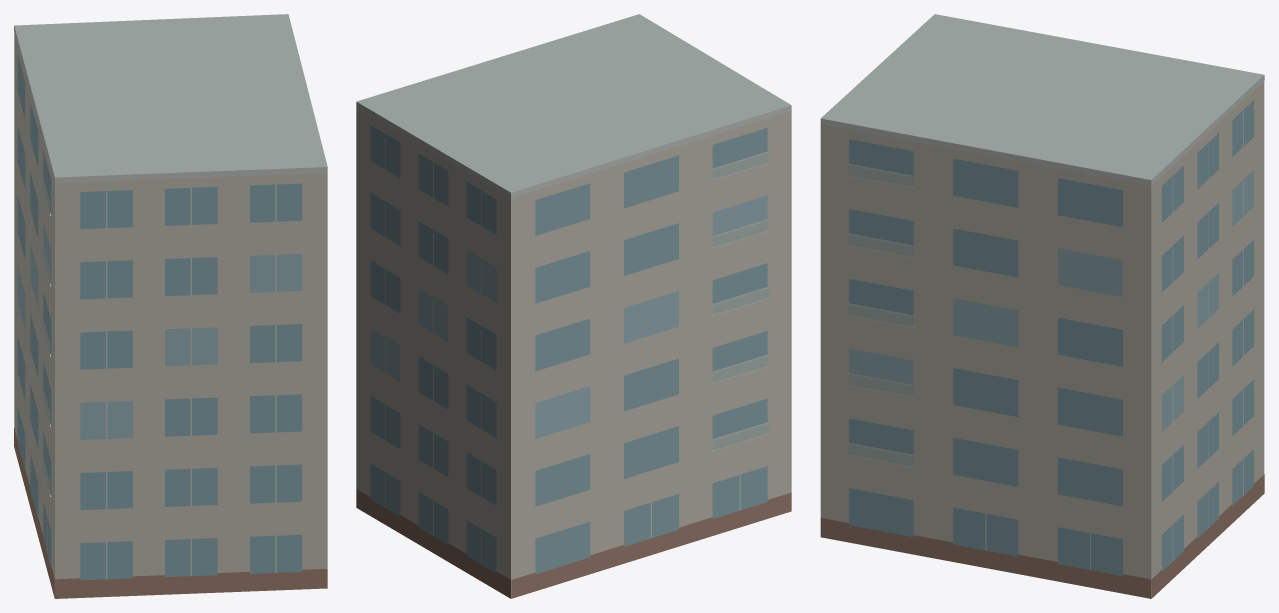
The model's file is survey-upis-32924546.glb.
3 views of the same model, side by side, from view 1: azimuth 30°, elevation 25°; view 2: azimuth 150°, elevation 25°; view 3: azimuth 270°, elevation 25° (orthographic). The views are drawn at different scales.
Visible parts, largest first — view 1: survey-upis-32924546.tmp; view 2: survey-upis-32924546.tmp; view 3: survey-upis-32924546.tmp.
Boxes of the visible parts, x1,y1,x2,y2 form: survey-upis-32924546.tmp: [14, 14, 327, 598]; survey-upis-32924546.tmp: [356, 14, 791, 598]; survey-upis-32924546.tmp: [820, 14, 1264, 598].
Size of the model in its own units: 14.82 by 17.4 by 16.73.
